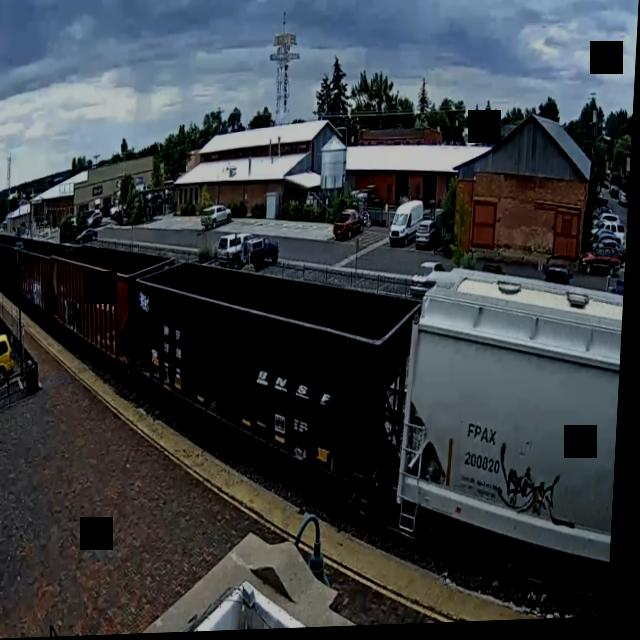hopper: (123, 235, 429, 527), (388, 253, 629, 608)
